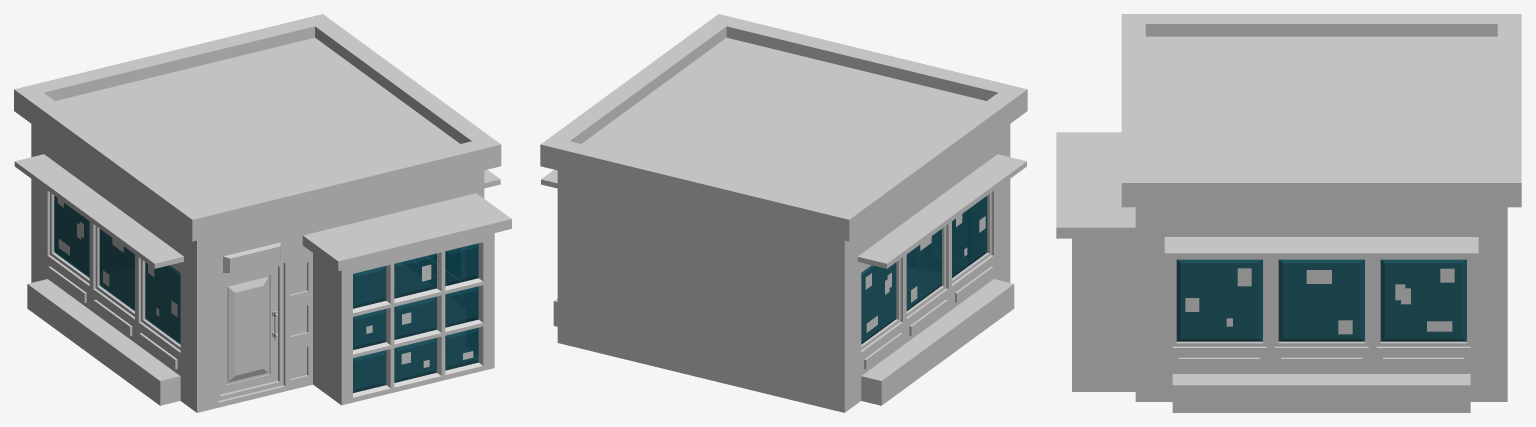
Rendered from shop_06_small.fbx.
3 renders of one model, left to right at view 1: azimuth 30°, elevation 25°; view 2: azimuth 150°, elevation 25°; view 3: azimuth 270°, elevation 25°, orthographic. The views are drawn at different scales.
Visible parts, largest first — view 1: shop_06_small, shop_06_small_glass; view 2: shop_06_small, shop_06_small_glass; view 3: shop_06_small, shop_06_small_glass.
Part boxes in pixels (left/top/right/bottom): shop_06_small: left=14, top=14, right=511, bottom=412; shop_06_small_glass: left=54, top=196, right=478, bottom=392; shop_06_small: left=540, top=14, right=1027, bottom=412; shop_06_small_glass: left=861, top=196, right=987, bottom=344; shop_06_small: left=1056, top=14, right=1521, bottom=412; shop_06_small_glass: left=1176, top=259, right=1466, bottom=341.
Size of the model in its own units: 723 by 400 by 751.
